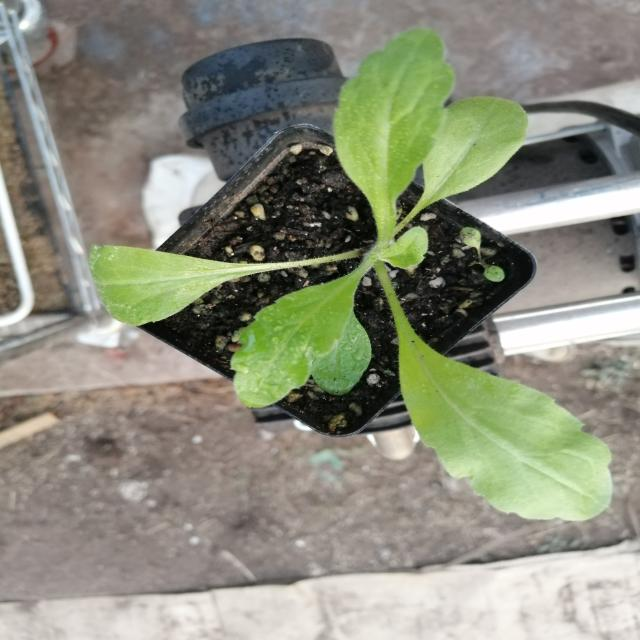horseweed: (156, 49, 619, 526)
